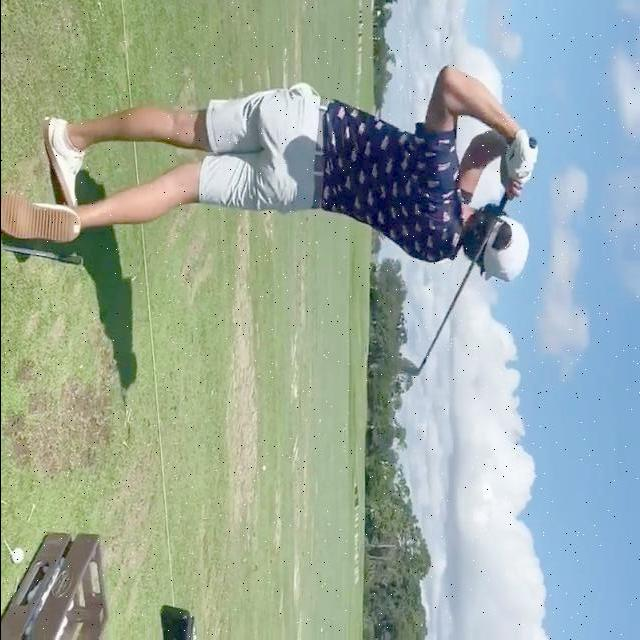golf ball: (11, 547, 22, 563)
golf club-handle: (397, 136, 537, 379)
golf club-head: (399, 358, 417, 377)
